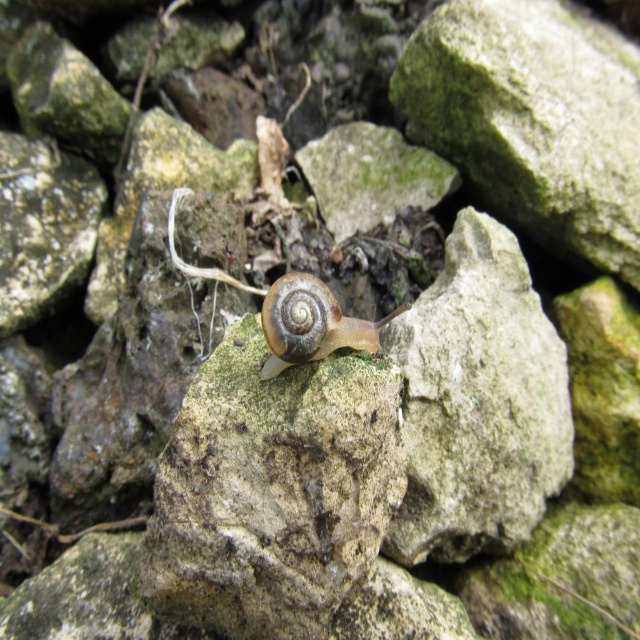Snail: (256, 268, 416, 385)
